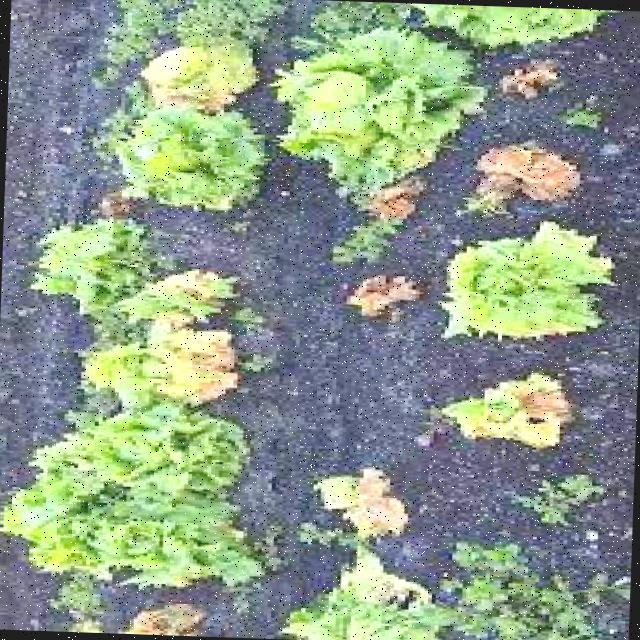Wilt_and_leaf_blight_on_lettuce: (39, 276, 250, 594), (444, 226, 606, 340), (122, 38, 272, 116)
